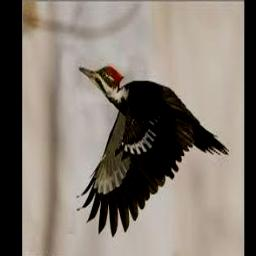Woodpecker: (76, 66, 229, 237)
